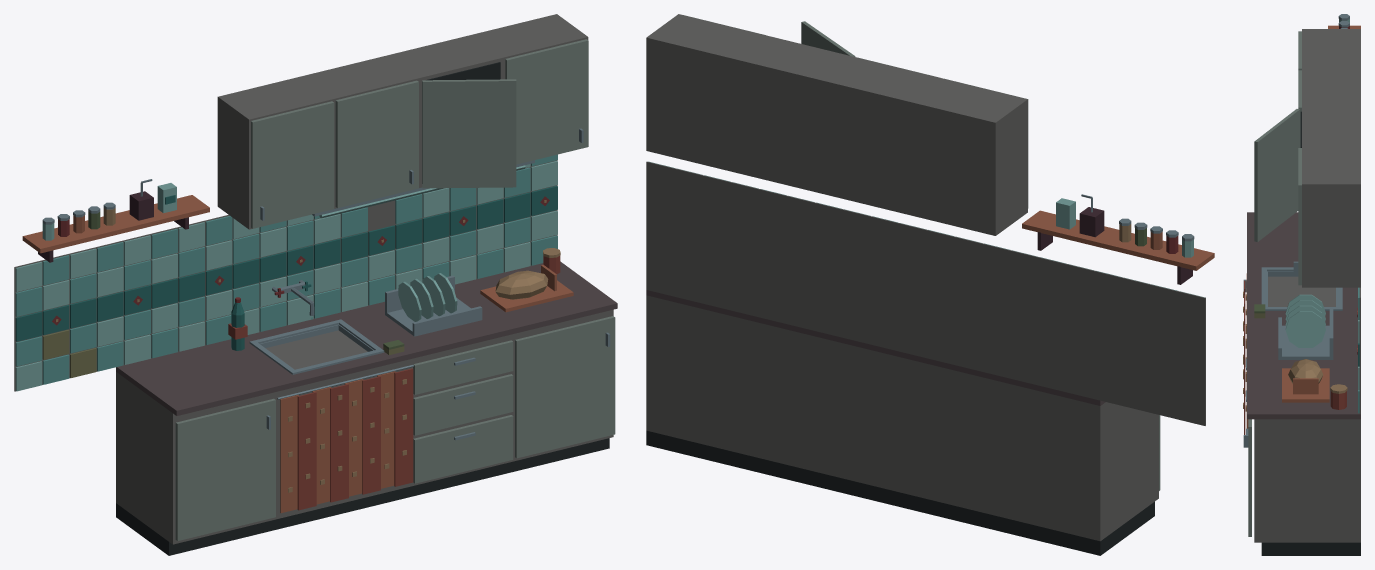
File: mobila_bucatarie.glb
3 views of the same model, side by side, from view 1: azimuth 30°, elevation 25°; view 2: azimuth 150°, elevation 25°; view 3: azimuth 270°, elevation 25° (orthographic). The views are drawn at different scales.
Parts seen in each view (by area): view 1: Mobila; view 2: Mobila; view 3: Mobila.
Part boxes in pixels (x1,y1,x2,y2): Mobila: (14,14,617,555); Mobila: (646,14,1214,555); Mobila: (1243,14,1360,555).
Bounding box in the file's own units: 3.2 × 2.23 × 0.641.
